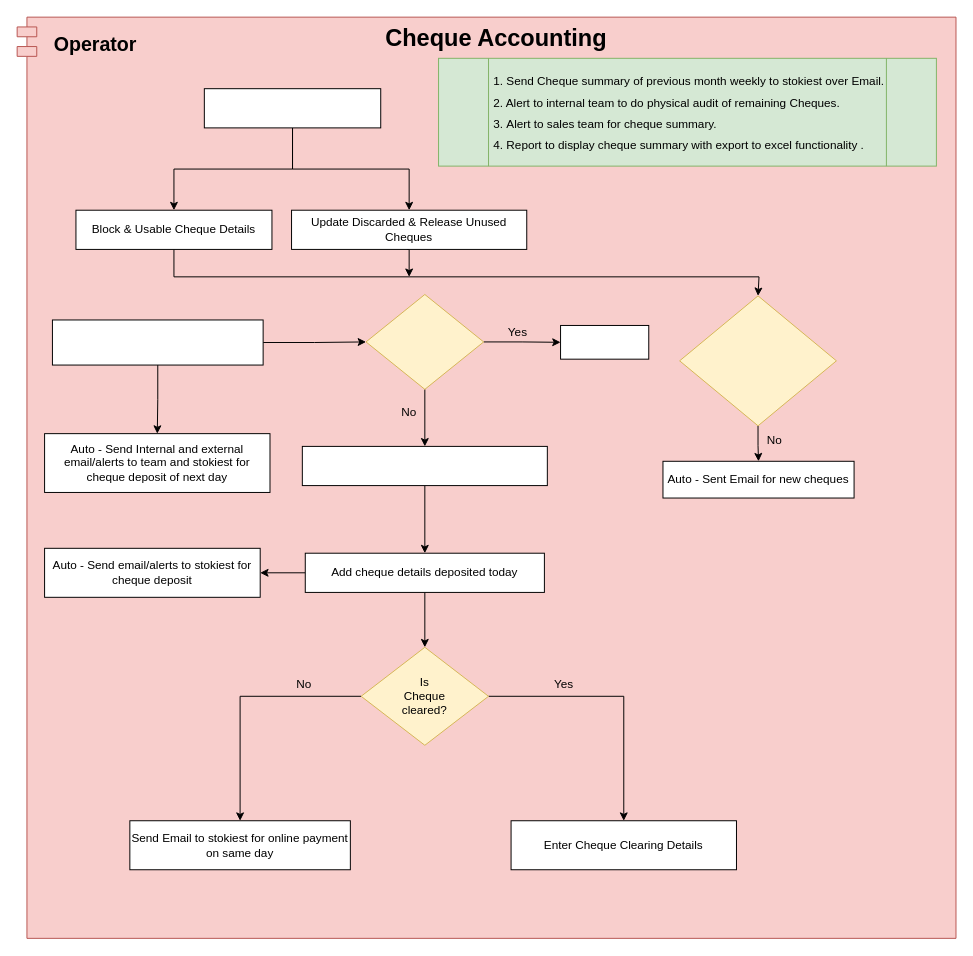
This 973x956 diagram has some shape labels left out. Each missing label, with the box of its shape:
Enter Cheque Details: (203, 88, 381, 128)
Enter Stokiest Outstanding for a day Enter outstanding for insulin invoice: (51, 319, 263, 365)
Is Amount is changed?: (365, 294, 484, 389)
Prepare/Print Cheque: (301, 445, 547, 486)
Remaining Cheque < Minimum count (3): (679, 295, 836, 426)
Sent Email: (560, 324, 649, 359)
